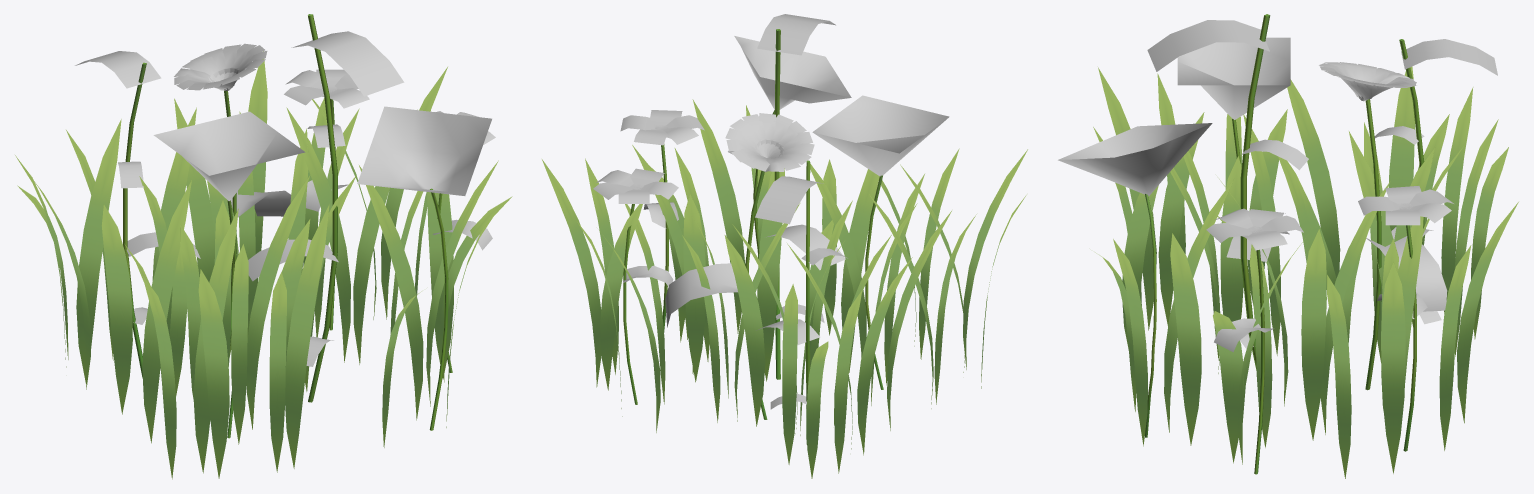
Rendered from SM_grass_flowers.fbx.
The picture shows the model from 3 angles, left to right: view 1: azimuth 30°, elevation 25°; view 2: azimuth 150°, elevation 25°; view 3: azimuth 270°, elevation 25°; orthographic projection. The views are drawn at different scales.
Visible parts, largest first — view 1: SM_grass_flowers; view 2: SM_grass_flowers; view 3: SM_grass_flowers.
Boxes of the visible parts, x1,y1,x2,y2 form: SM_grass_flowers: [15, 14, 512, 479]; SM_grass_flowers: [542, 14, 1027, 478]; SM_grass_flowers: [1058, 14, 1518, 478].
Size of the model in its own units: 149 by 131 by 139.
